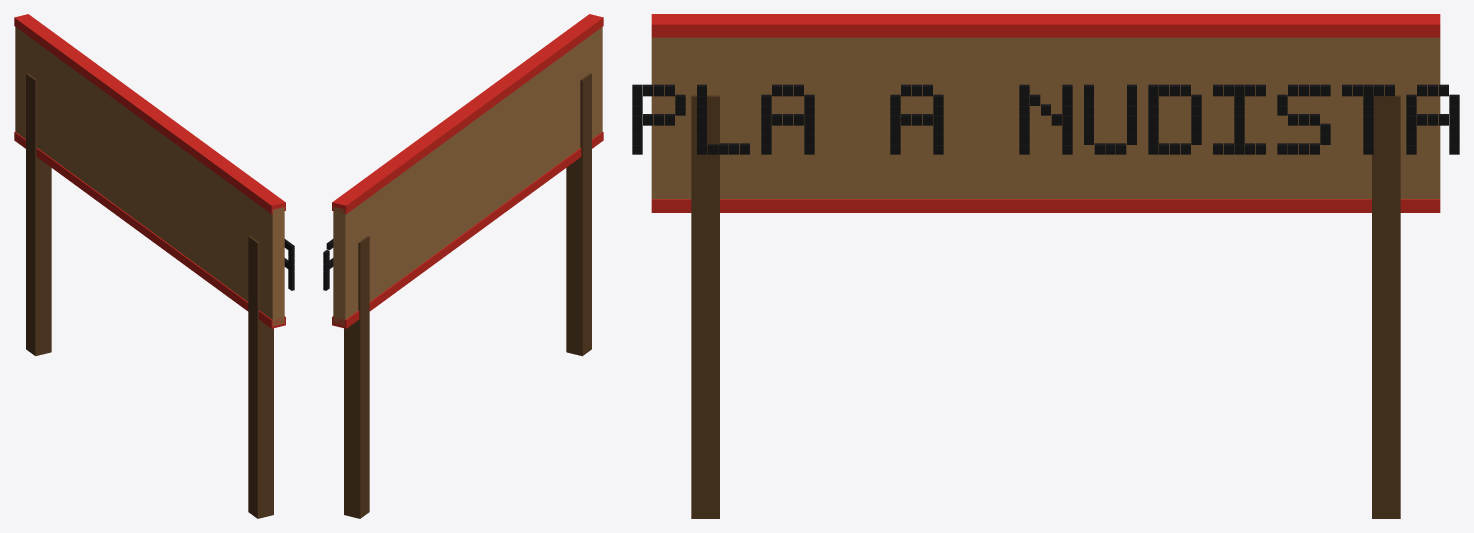
File: letrero_nudista.obj
3 renders of one model, left to right at view 1: azimuth 30°, elevation 25°; view 2: azimuth 150°, elevation 25°; view 3: azimuth 270°, elevation 25°, orthographic. The views are drawn at different scales.
Parts seen in each view (by area): view 1: letrero_nudista; view 2: letrero_nudista; view 3: letrero_nudista.
Part boxes in pixels (x1,y1,x2,y2): letrero_nudista: (14, 14, 294, 518); letrero_nudista: (323, 14, 603, 518); letrero_nudista: (632, 14, 1459, 518).
Size of the model in its own units: 0.175 by 3.04 by 4.62.
